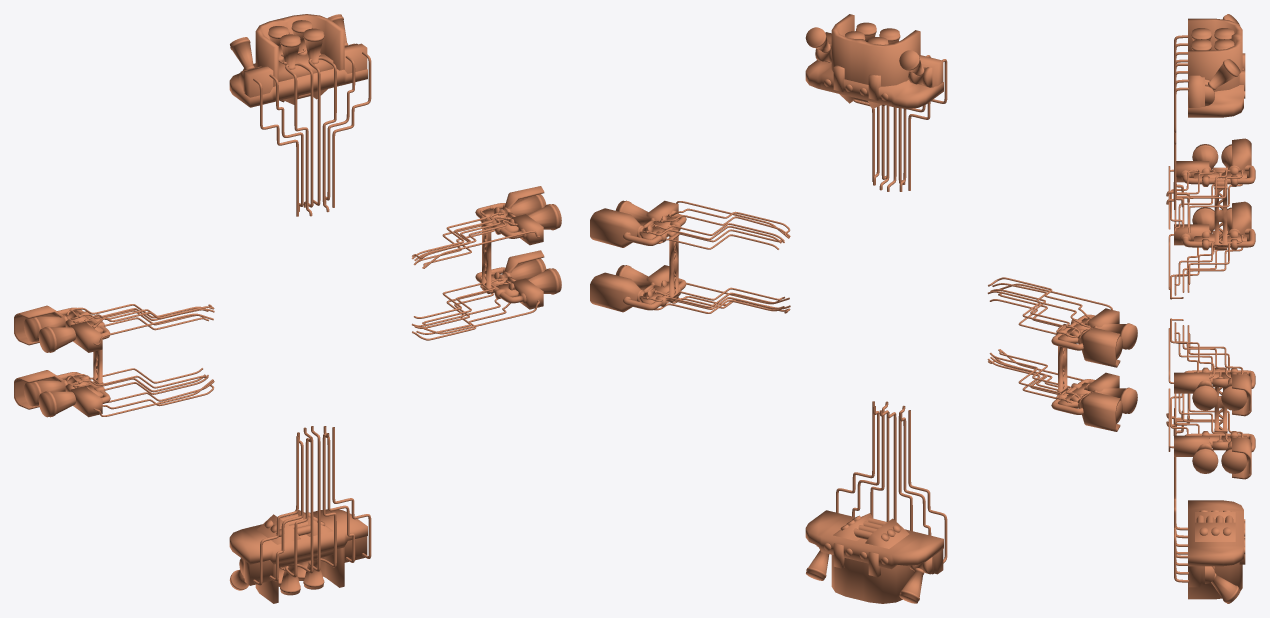
Rendered from Transition Compartment_2.fbx.
The picture shows the model from 3 angles, left to right: view 1: azimuth 30°, elevation 25°; view 2: azimuth 150°, elevation 25°; view 3: azimuth 270°, elevation 25°; orthographic projection.
Visible parts, largest first — view 1: Transition Compartment_2.L, Transition Compartment_2.R; view 2: Transition Compartment_2.R, Transition Compartment_2.L; view 3: Transition Compartment_2.L, Transition Compartment_2.R.
Part boxes in pixels (x1=…): Transition Compartment_2.L: x1=14, y1=14, x2=561, y2=354; Transition Compartment_2.R: x1=14, y1=250, x2=561, y2=603; Transition Compartment_2.R: x1=590, y1=264, x2=1137, y2=603; Transition Compartment_2.L: x1=590, y1=14, x2=1137, y2=367; Transition Compartment_2.L: x1=1166, y1=14, x2=1255, y2=416; Transition Compartment_2.R: x1=1166, y1=201, x2=1255, y2=603.
Bounding box in the file's own units: 268 × 272 × 40.21.
